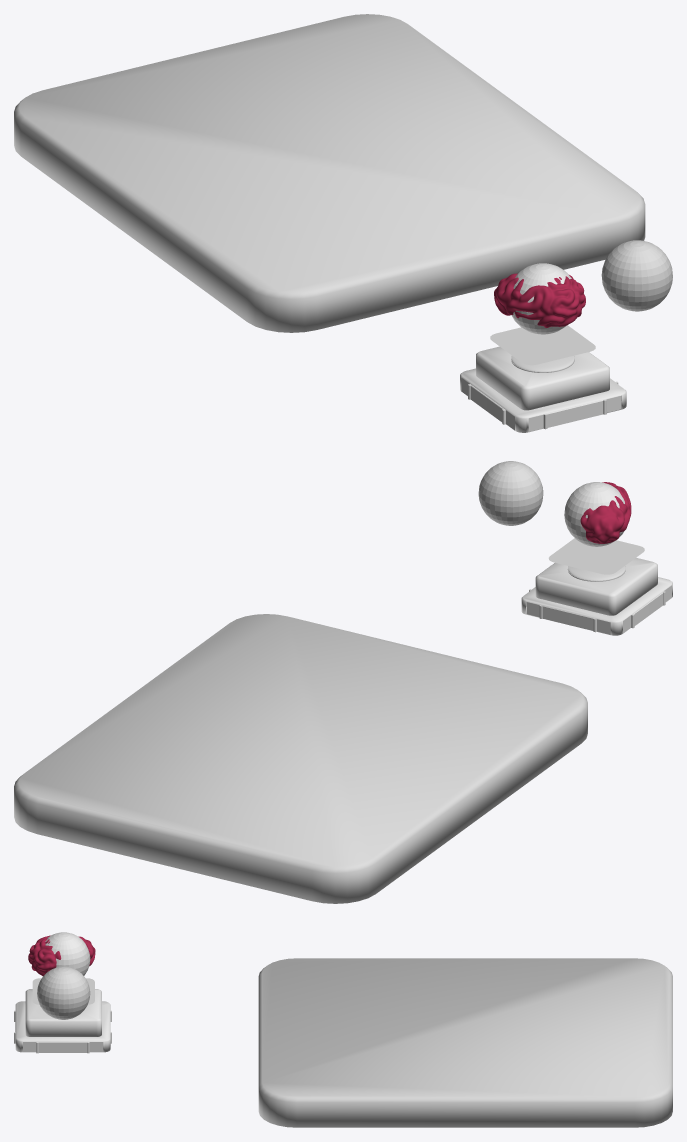
File: City_prototype_2.glb
3 renders of one model, top to bottom at view 1: azimuth 30°, elevation 25°; view 2: azimuth 150°, elevation 25°; view 3: azimuth 270°, elevation 25°, orthographic. The views are drawn at different scales.
Parts seen in each view (by area): view 1: Cube.009, Cube.008, Sphere.001, Object_4, Plane.002, Cube, Sphere, Cube.003, Cube.001; view 2: Cube.009, Cube.008, Sphere.001, Plane.002, Sphere, Object_4, Cube, Cube.005, Cube.001; view 3: Cube.009, Sphere.001, Cube.008, Cube, Sphere, Object_4, Cube.011, Plane.002.
Boxes of the visible parts, x1,y1,x2,y2 form: Cube.009: [14, 14, 645, 332]; Cube.008: [476, 346, 609, 410]; Sphere.001: [601, 240, 672, 311]; Object_4: [494, 273, 585, 327]; Plane.002: [490, 325, 595, 364]; Cube: [460, 368, 626, 432]; Sphere: [511, 263, 571, 334]; Cube.003: [528, 396, 621, 431]; Cube.001: [461, 378, 514, 430]; Cube.009: [14, 614, 587, 903]; Cube.008: [535, 557, 657, 615]; Sphere.001: [478, 461, 543, 525]; Plane.002: [549, 538, 644, 574]; Sphere: [564, 482, 624, 546]; Object_4: [580, 482, 631, 543]; Cube: [521, 577, 672, 635]; Cube.005: [526, 602, 610, 634]; Cube.001: [623, 585, 671, 633]; Cube.009: [258, 958, 672, 1127]; Sphere.001: [37, 966, 90, 1019]; Cube.008: [25, 989, 101, 1036]; Cube: [15, 1001, 110, 1052]; Sphere: [45, 932, 90, 975]; Object_4: [28, 935, 95, 975]; Cube.011: [23, 1042, 103, 1053]; Plane.002: [32, 978, 94, 1004].
Size of the model in its own units: 22.24 by 7.38 by 43.47.
